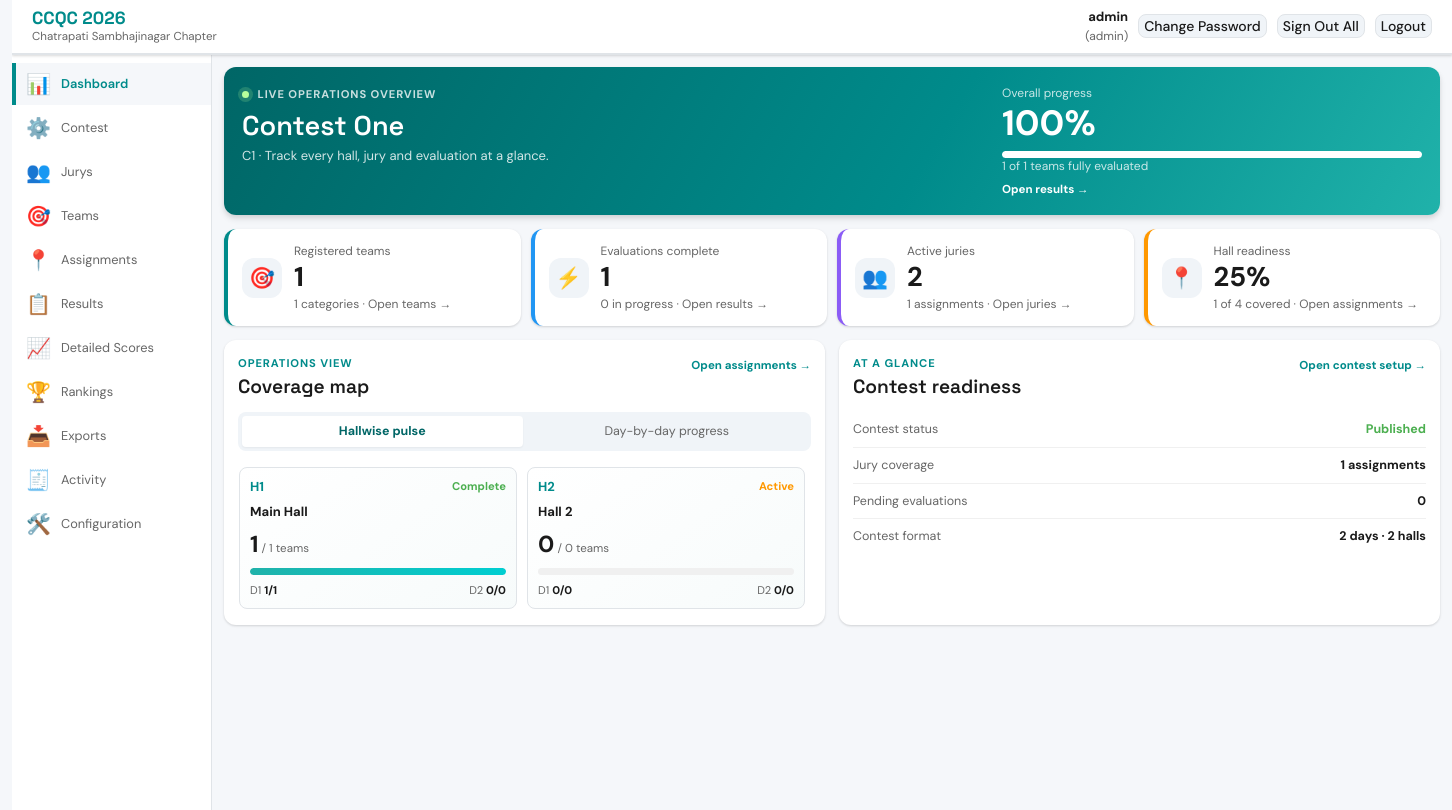
Scenario: admin pages › renders the admin dashboard and changes views
This screenshot has width=1452, height=810.
Expected: the heading "CCQC 2026" is shown, left=32, top=7, right=126, bottom=29
Step 1. Click the button "🏆 Rankings" → (112, 392), box left=12, top=371, right=211, bottom=413
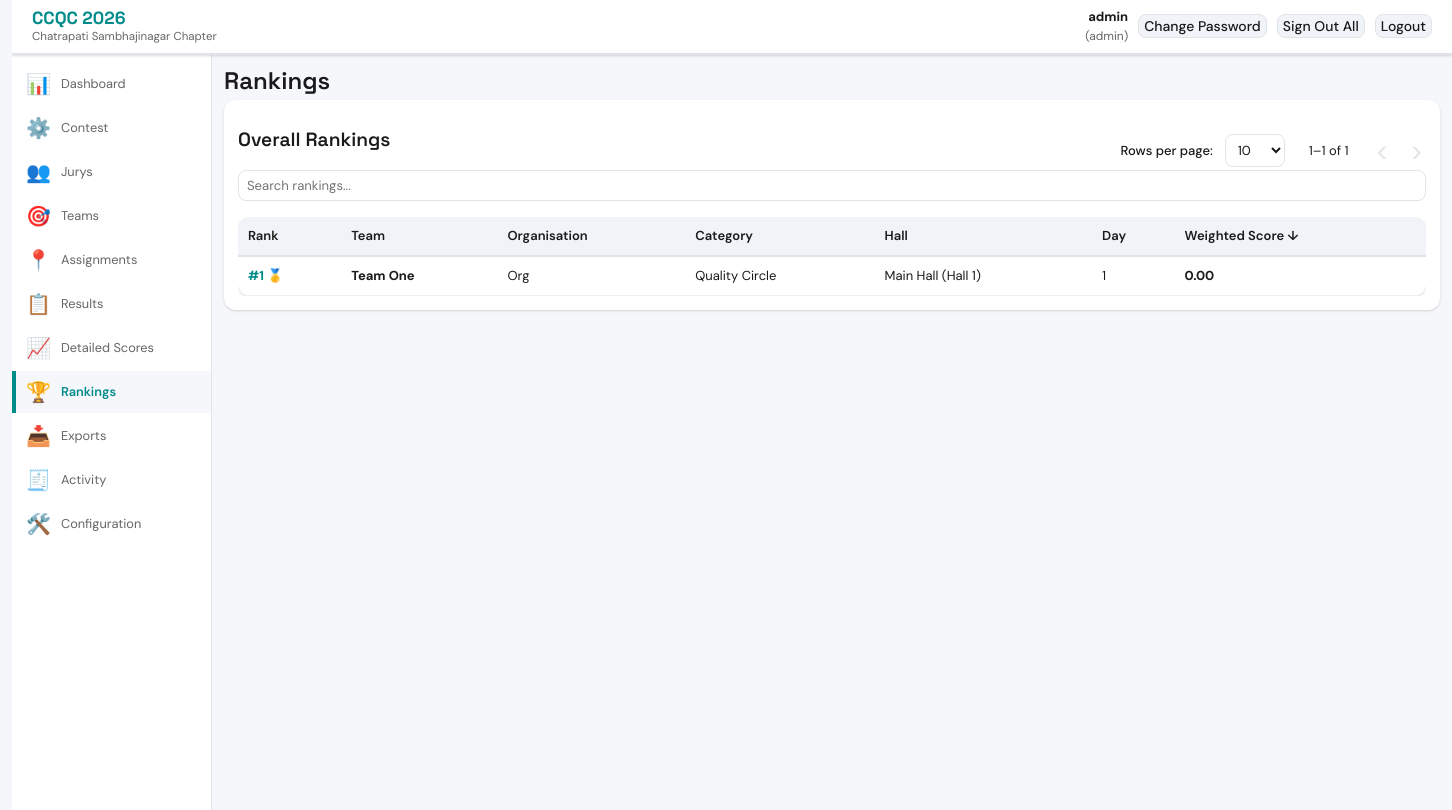
Result: the heading "Rankings" is shown at left=224, top=65, right=330, bottom=96
